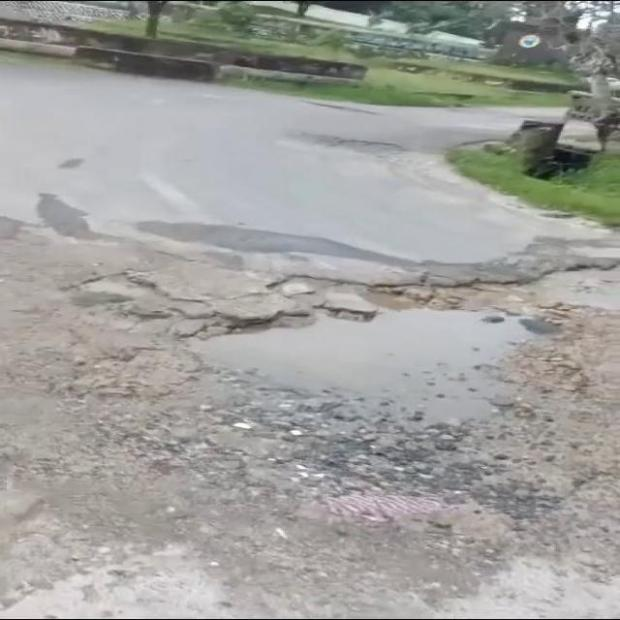lubang: (84, 269, 619, 424)
